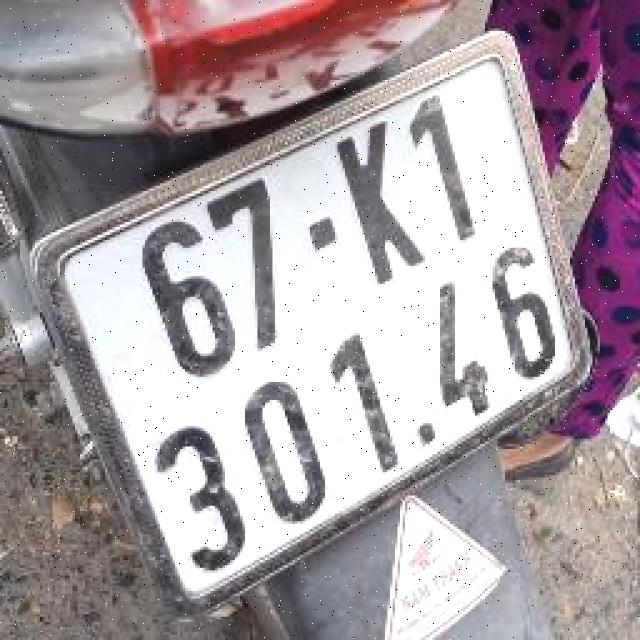0: (224, 358, 345, 540)
1: (307, 319, 415, 494), (399, 83, 491, 260)
3: (141, 411, 259, 586)
4: (407, 264, 502, 437)
6: (127, 206, 250, 393), (474, 232, 568, 398)
7: (190, 173, 302, 365)
K: (326, 103, 438, 304)
